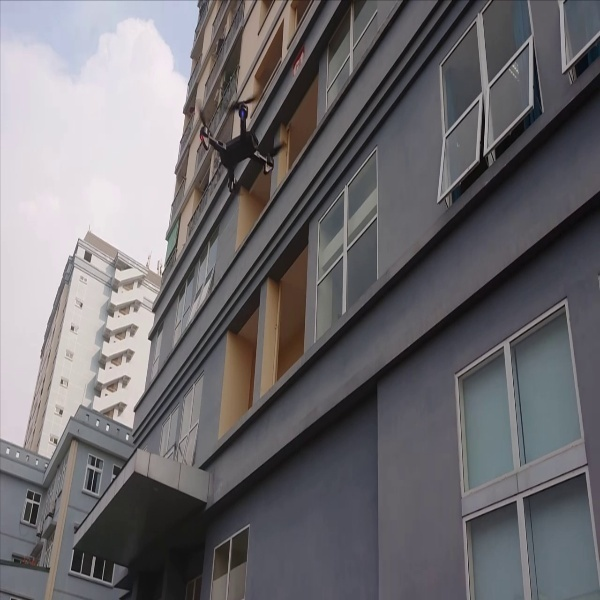drone: (189, 83, 286, 192)
